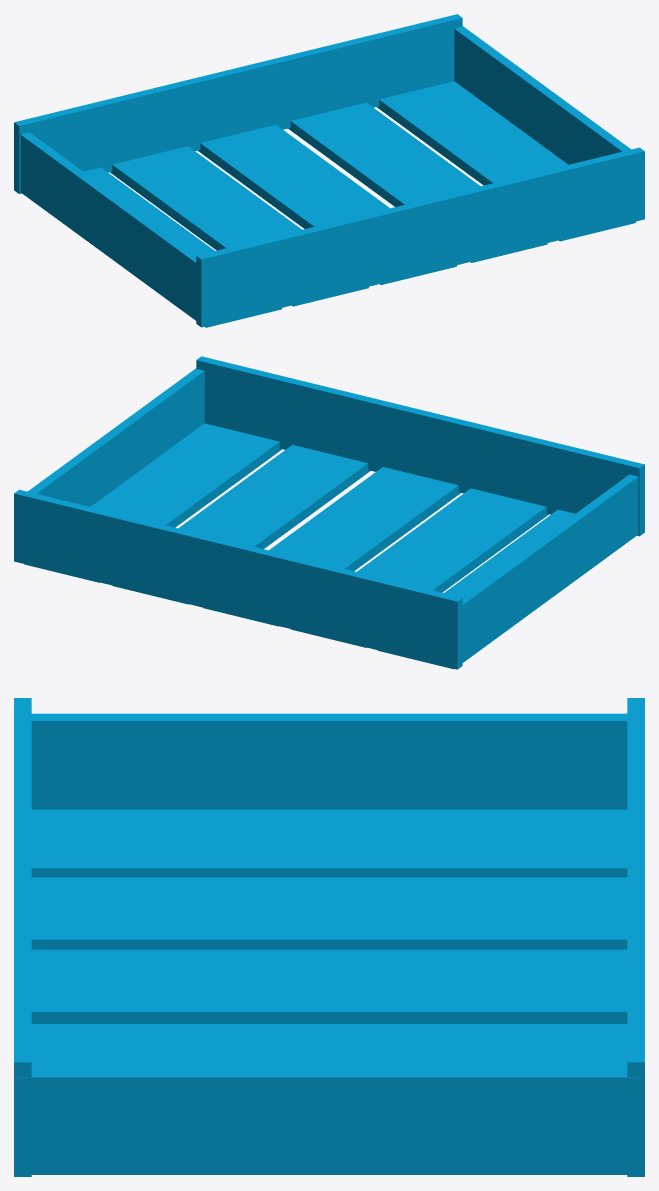
Rendered from Fruits_Box_02_Lod0.fbx.
The picture shows the model from 3 angles, top to bottom: view 1: azimuth 30°, elevation 25°; view 2: azimuth 150°, elevation 25°; view 3: azimuth 270°, elevation 25°; orthographic projection. The views are drawn at different scales.
Visible parts, largest first — view 1: Fruits_Box_02_Lod0; view 2: Fruits_Box_02_Lod0; view 3: Fruits_Box_02_Lod0.
Boxes of the visible parts, x1,y1,x2,y2 form: Fruits_Box_02_Lod0: (14, 14, 644, 327); Fruits_Box_02_Lod0: (14, 356, 644, 669); Fruits_Box_02_Lod0: (14, 698, 644, 1176).
Size of the model in its own units: 50.57 by 7.69 by 36.97.
